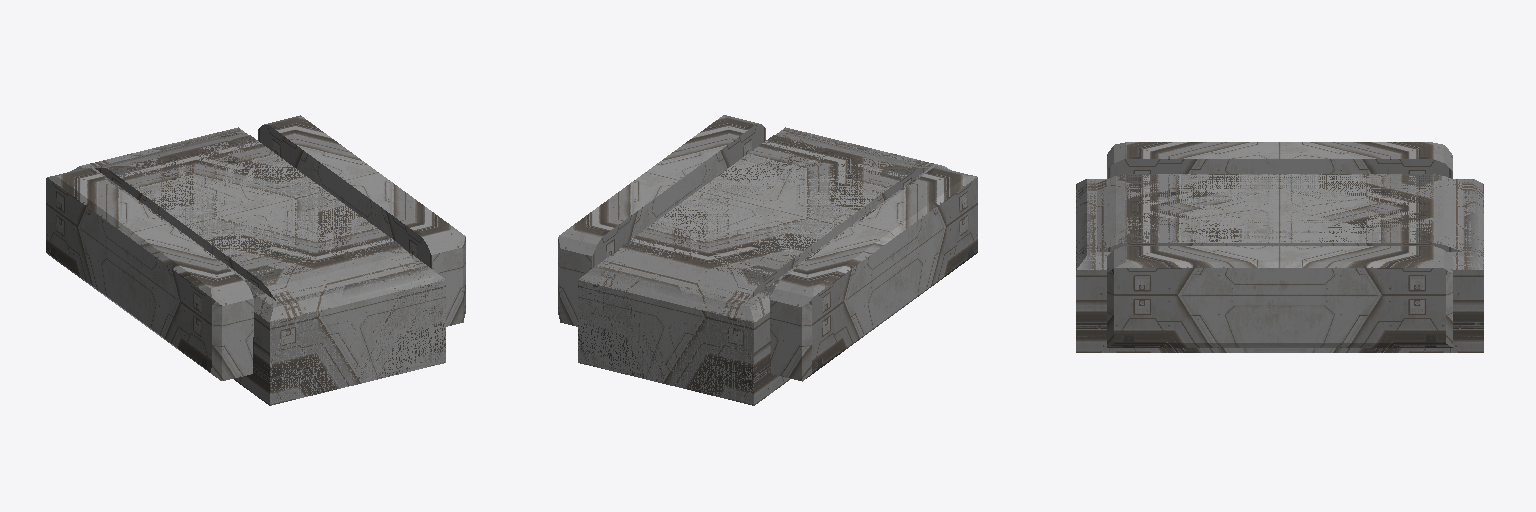
The picture shows the model from 3 angles: view 1: azimuth 30°, elevation 25°; view 2: azimuth 150°, elevation 25°; view 3: azimuth 270°, elevation 25°; orthographic projection.
Parts seen in each view (by area): view 1: baza; view 2: baza; view 3: baza.
Part boxes in pixels (x1,y1,x2,y2): baza: (46, 115, 465, 405); baza: (558, 115, 977, 405); baza: (1076, 142, 1483, 352).
Bounding box in the file's own units: 1.44 × 0.5826 × 2.
1 materials, 1 textured.